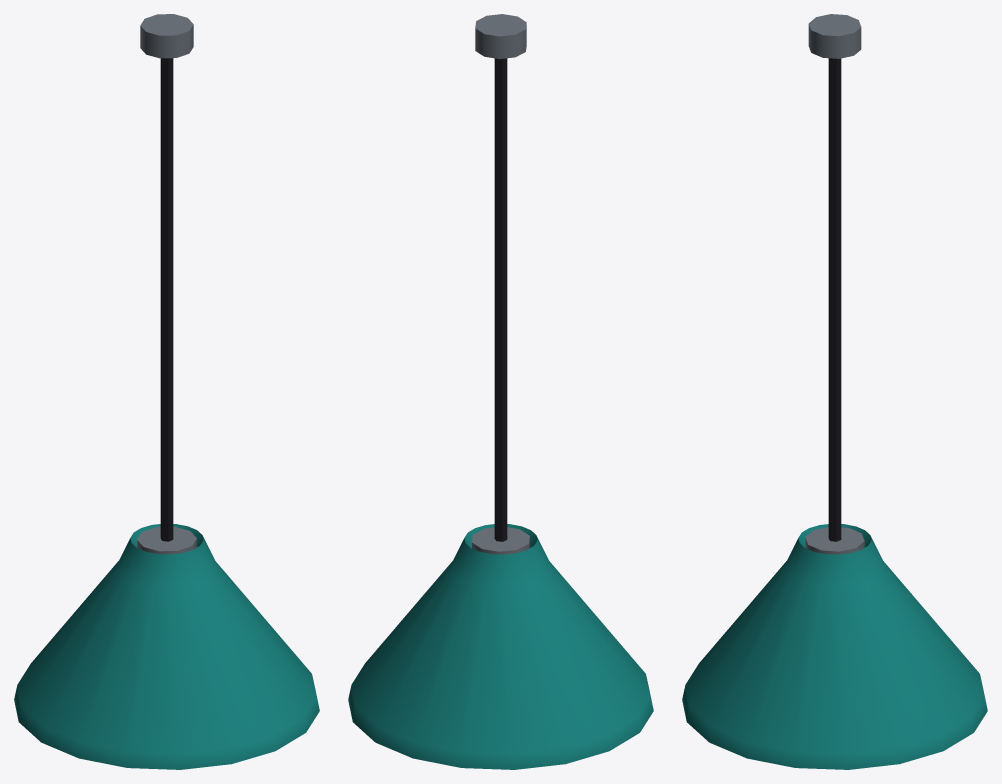
File: LamparaNave.fbx
3 renders of one model, left to right at view 1: azimuth 30°, elevation 25°; view 2: azimuth 150°, elevation 25°; view 3: azimuth 270°, elevation 25°, orthographic.
Parts seen in each view (by area): view 1: LamparaNave; view 2: LamparaNave; view 3: LamparaNave.
Part boxes in pixels (x1,y1,x2,y2): LamparaNave: (14, 14, 319, 769); LamparaNave: (348, 14, 653, 769); LamparaNave: (682, 14, 987, 769).
Size of the model in its own units: 1.83 by 4.55 by 1.83.
1 material, 1 textured.
